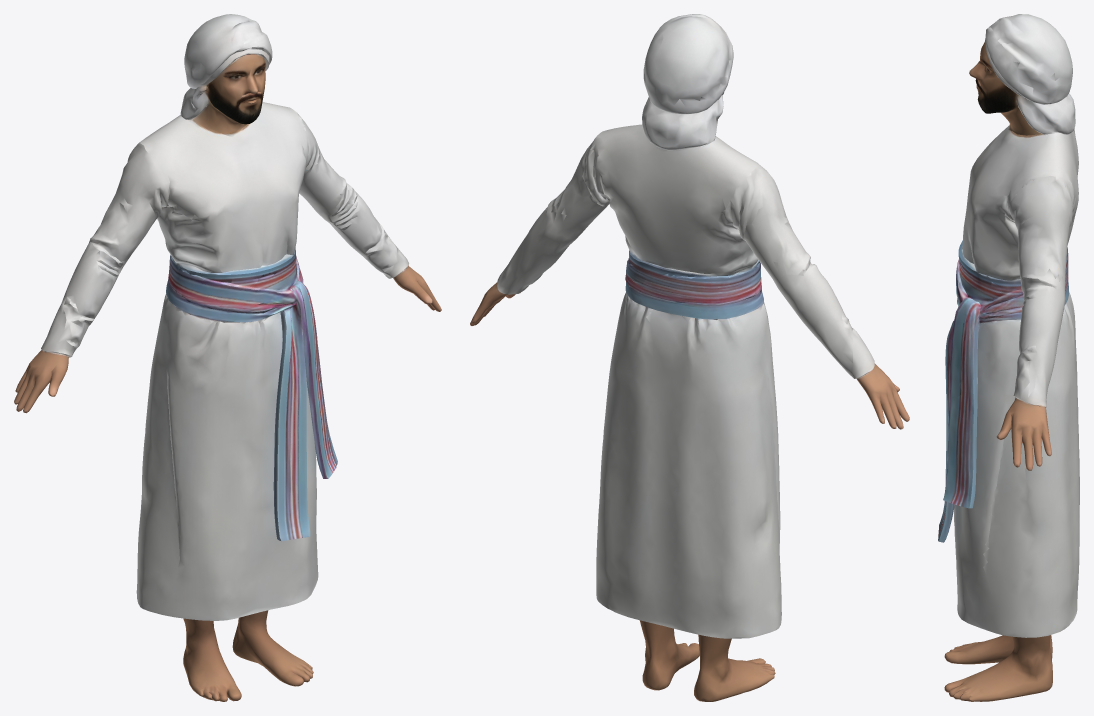
File: cohen_3.glb
3 renders of one model, left to right at view 1: azimuth 30°, elevation 25°; view 2: azimuth 150°, elevation 25°; view 3: azimuth 270°, elevation 25°, orthographic. The views are drawn at different scales.
Visible parts, largest first — view 1: Mesh; view 2: Mesh; view 3: Mesh.
Part boxes in pixels (x1,y1,x2,y2): Mesh: (14,14,441,701); Mesh: (470,14,909,701); Mesh: (938,14,1079,701).
Size of the model in its own units: 1.28 by 1.89 by 0.3695.
1 material, 1 textured.
